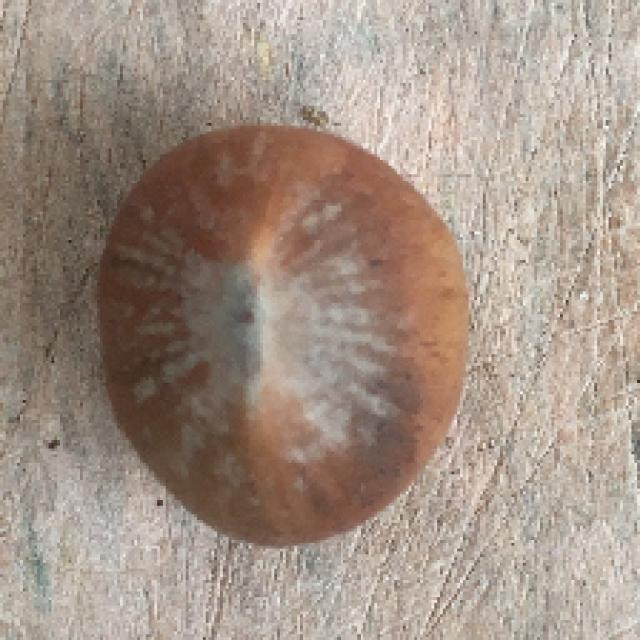qualityHazelnut: (83, 121, 480, 545)
